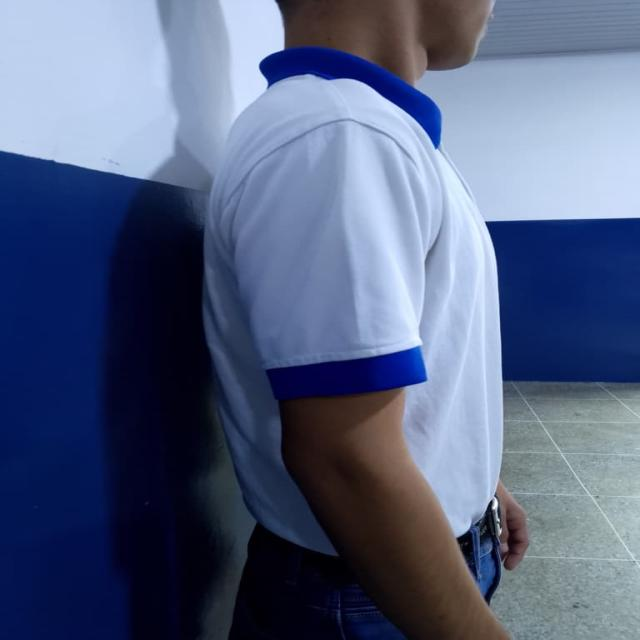uniforme_superior: (200, 45, 506, 559)
